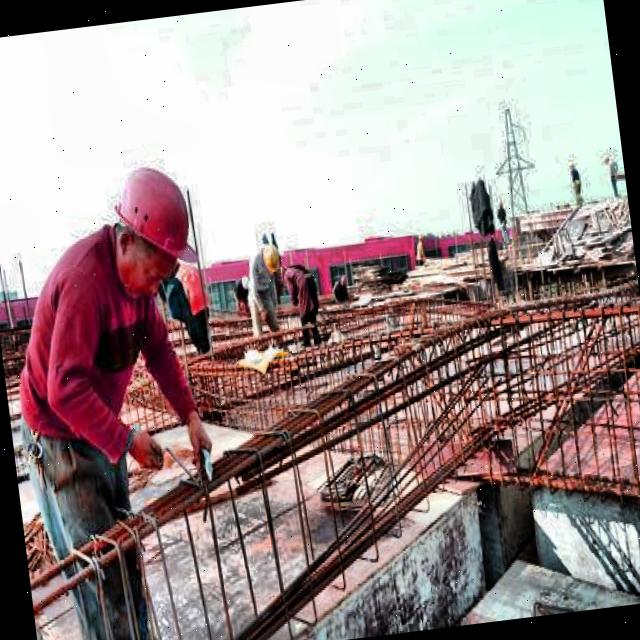helmet: (94, 145, 214, 301), (260, 242, 282, 280)
